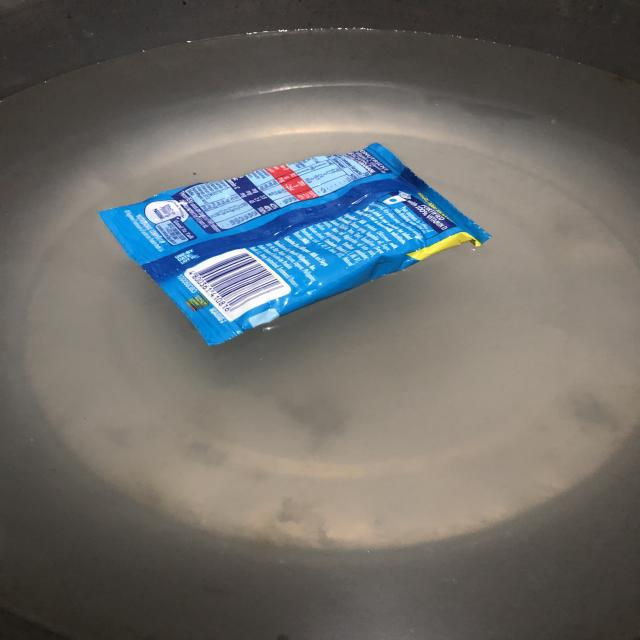Plastic Wrapper: (99, 143, 491, 345)
